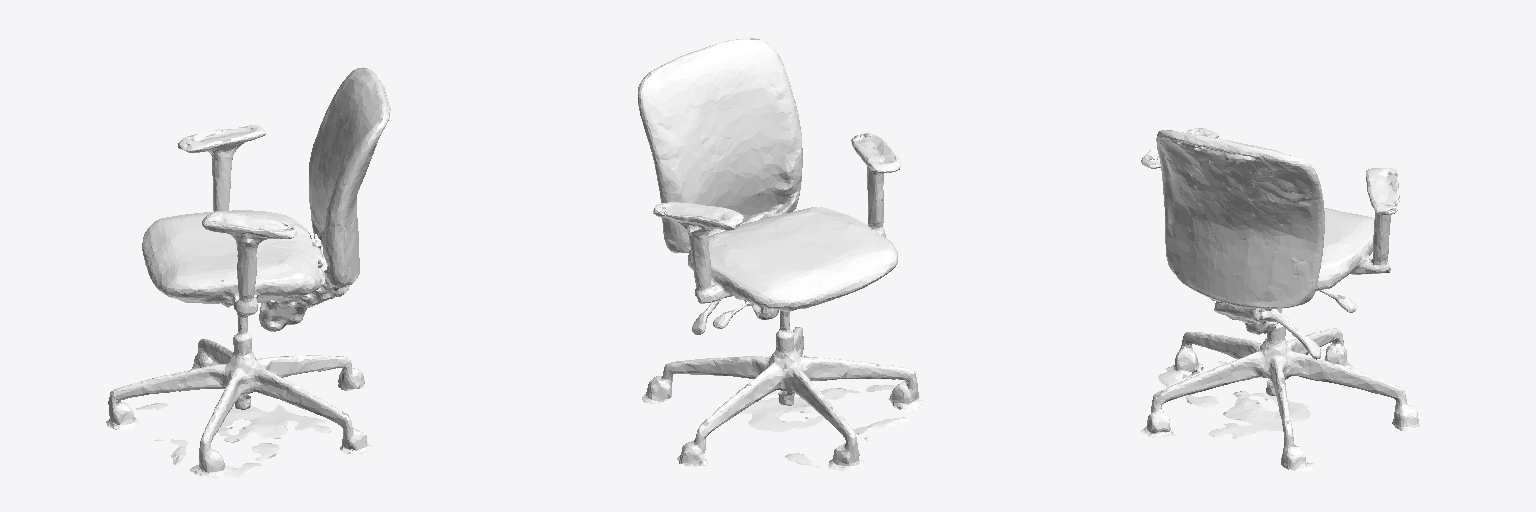
The model's file is mesh_lowpoly.obj.
3 views of the same model, side by side, from view 1: azimuth 30°, elevation 25°; view 2: azimuth 150°, elevation 25°; view 3: azimuth 270°, elevation 25° (orthographic).
Size of the model in its own units: 2.23 by 2.9 by 2.26.